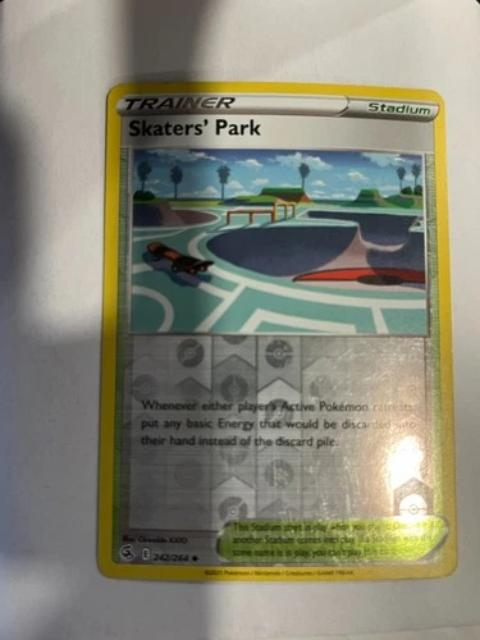Card: (90, 76, 462, 584)
Name: (124, 111, 269, 143)
